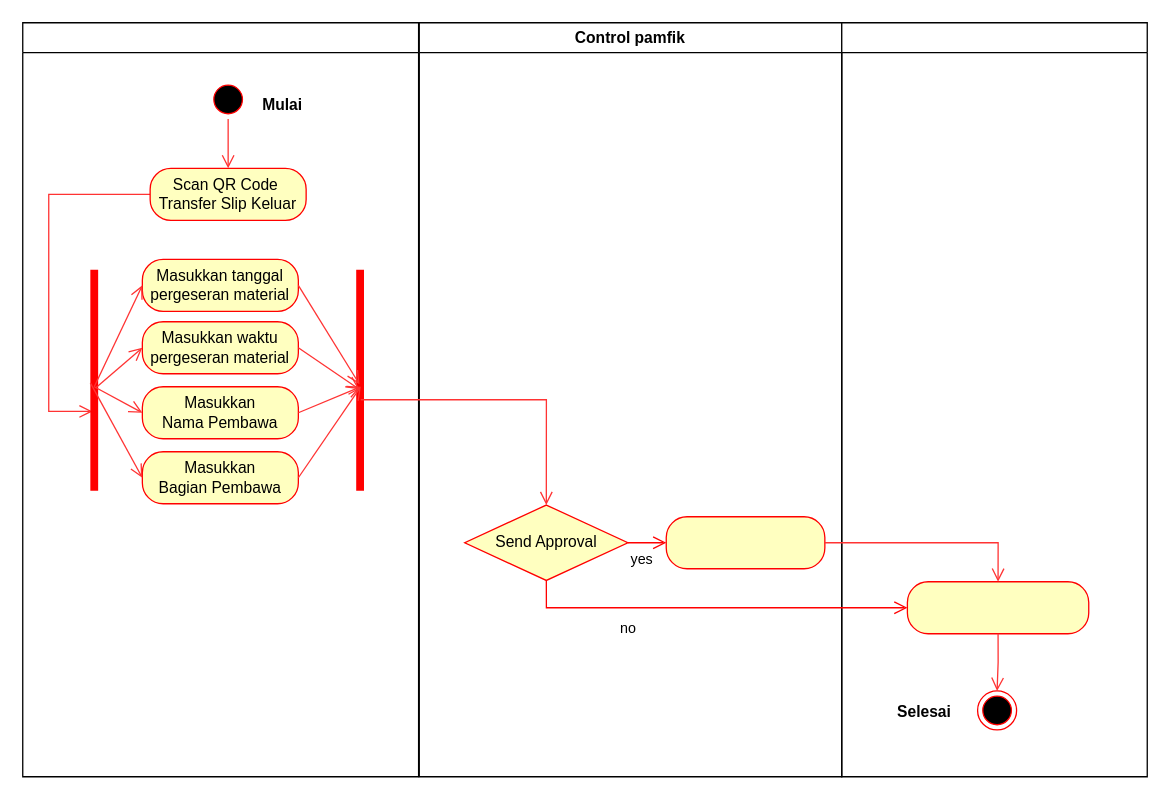
Image size: 1170x800. Some labels were removed from this diagram. Each missing label, with the box of its shape:
Aplikasi ATM: (840, 21, 1147, 777)
Menu pergeseran material keluar gudang: (906, 580, 1089, 634)
Notif ke Pammat: (665, 515, 825, 569)
Pamfik: (21, 21, 419, 777)
